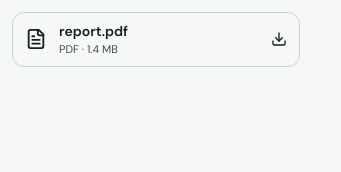
AttachmentView › PDF › shows an error and stays usable when the download fails
The width and height of the screenshot is (341, 172).
What coordinates should you click on to do the following:
click the button with aria-label "Download"
I would click on:
 (94, 31)
Its box is [12, 12, 300, 66].
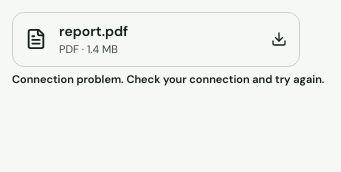
Result: the message shows "Connection problem" at [12, 72, 324, 86]
